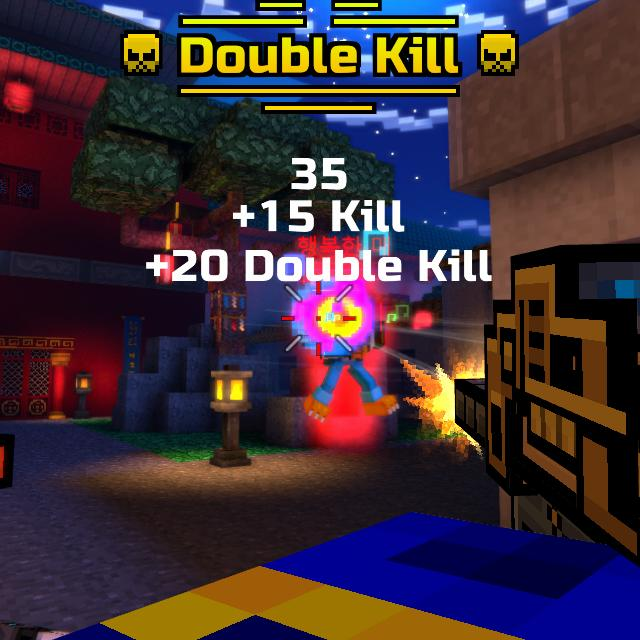Enemy: (303, 282, 400, 424)
